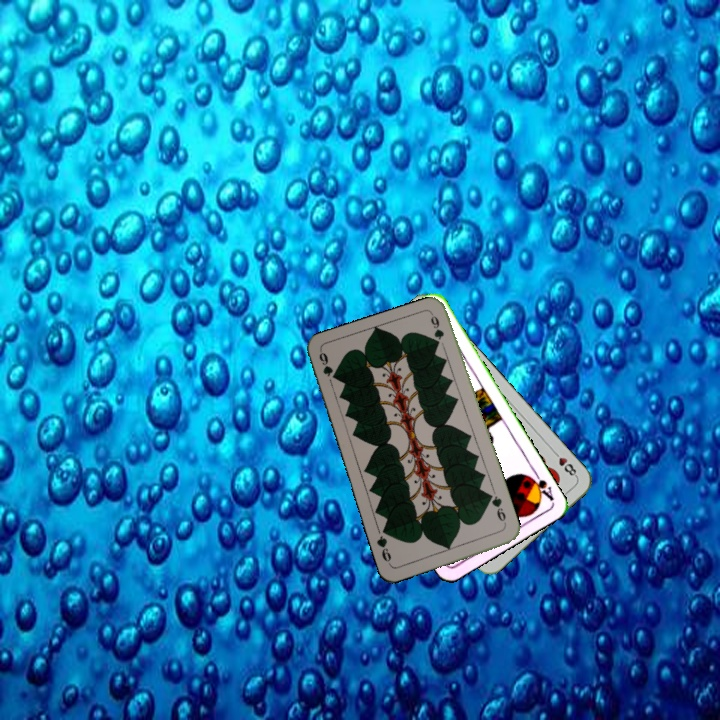G9: (315, 348, 340, 383), (486, 491, 509, 529)
H8: (549, 447, 580, 480)
SA: (524, 467, 556, 504)
